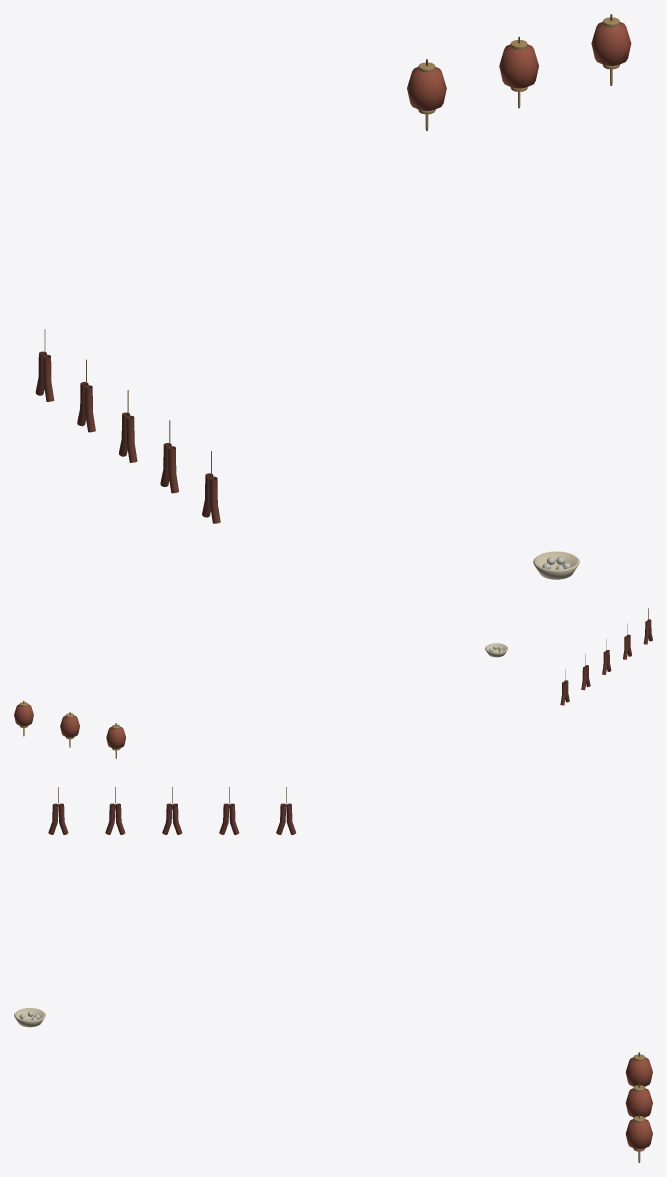
Rendered from season-dongzhi.glb.
The picture shows the model from 3 angles, top to bottom: view 1: azimuth 30°, elevation 25°; view 2: azimuth 150°, elevation 25°; view 3: azimuth 270°, elevation 25°; orthographic projection. The views are drawn at different scales.
Parts seen in each view (by area): view 1: Season_dongzhi__RT_ExportPalette_0.720_0.000; view 2: Season_dongzhi__RT_ExportPalette_0.720_0.000; view 3: Season_dongzhi__RT_ExportPalette_0.720_0.000.
Part boxes in pixels (bbox=[...]): Season_dongzhi__RT_ExportPalette_0.720_0.000: bbox=[35, 14, 631, 579]; Season_dongzhi__RT_ExportPalette_0.720_0.000: bbox=[14, 608, 652, 758]; Season_dongzhi__RT_ExportPalette_0.720_0.000: bbox=[14, 787, 652, 1162].
Size of the model in its own units: 5.87 by 1.25 by 5.61.
